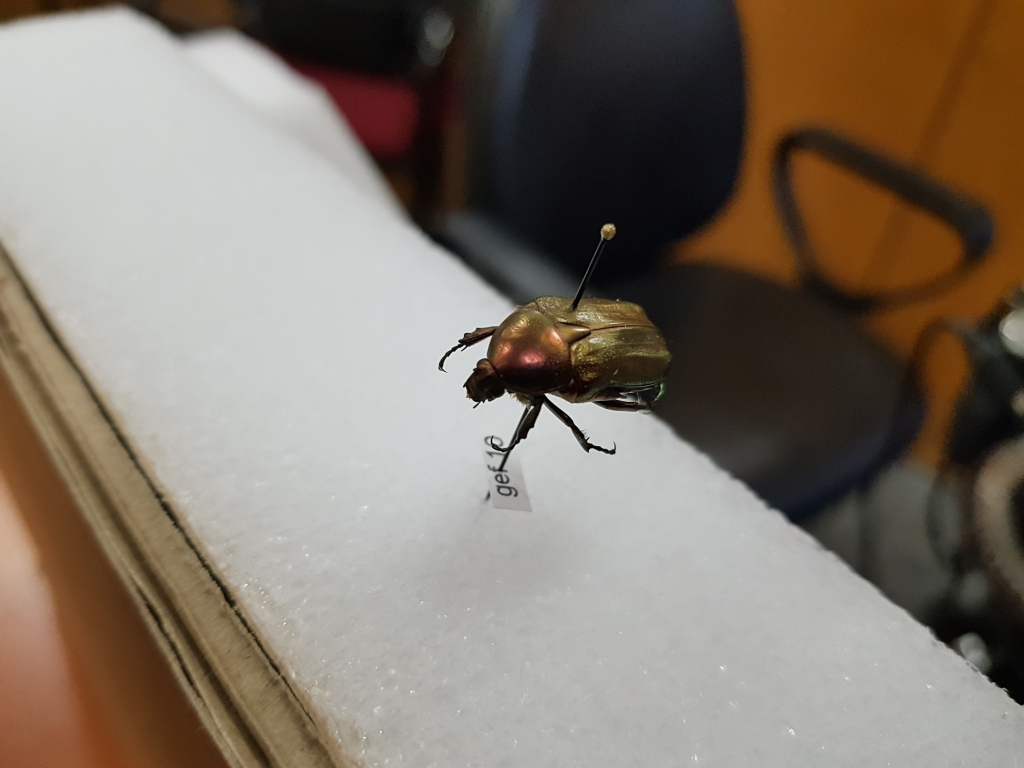Cetonia_aurata: (432, 292, 676, 458)
